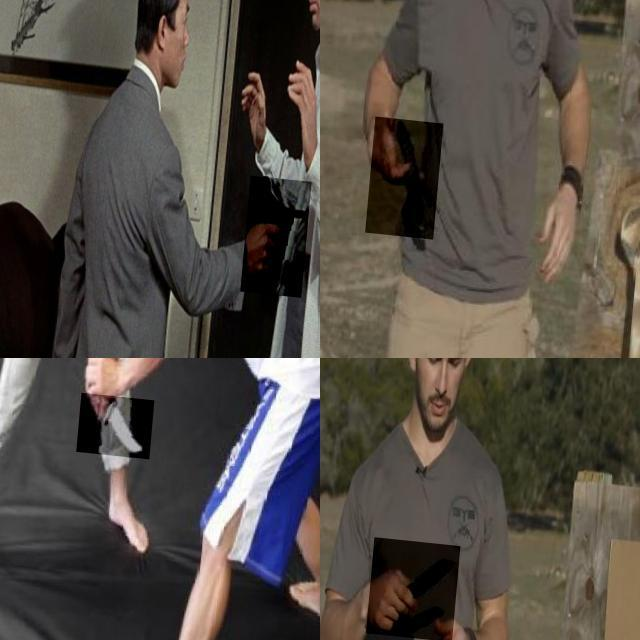-: (373, 532, 466, 635), (374, 112, 450, 234), (84, 386, 161, 452)
gun-knife-thesis - v11 Yolov5 augmented: (249, 166, 318, 288)
